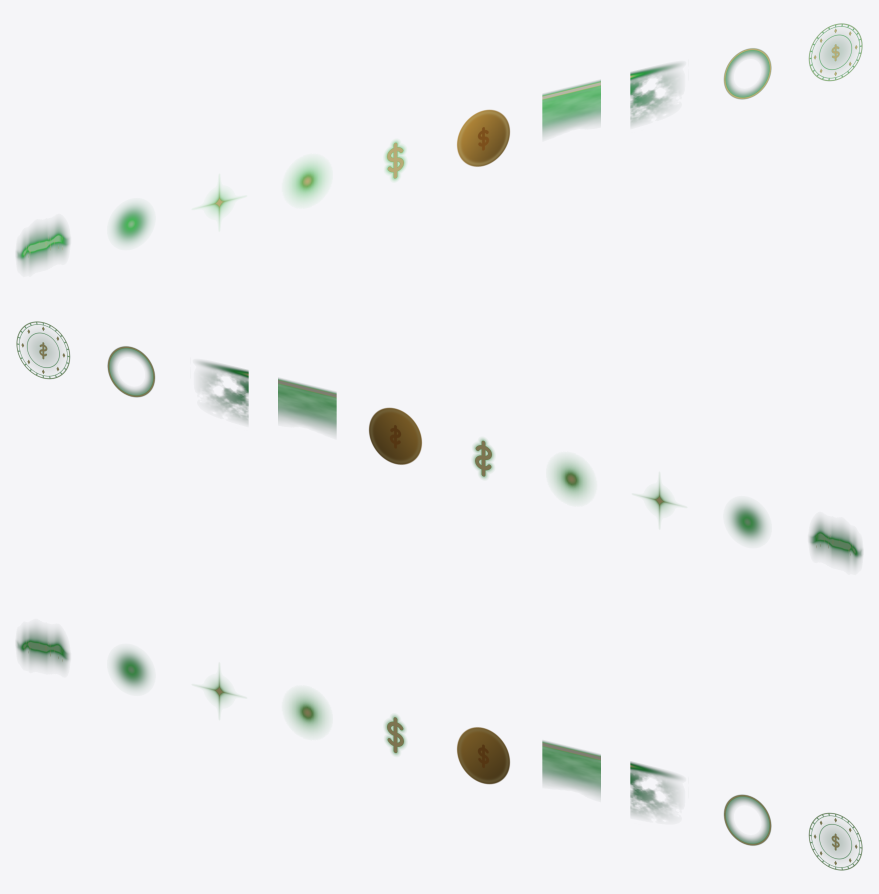
File: MoneyStaffVFX.glb
3 views of the same model, one above another, from view 1: azimuth 30°, elevation 25°; view 2: azimuth 150°, elevation 25°; view 3: azimuth 330°, elevation 25° (orthographic).
Parts seen in each view (by area): view 1: Tex_SlashBand, Tex_Coin, Tex_Wisp, Tex_Trail, Tex_GroundCircle, Tex_Mote, Tex_Glow, Tex_ShockRing, Tex_Dollar; view 2: Tex_SlashBand, Tex_Coin, Tex_Wisp, Tex_Trail, Tex_GroundCircle, Tex_Mote, Tex_Glow, Tex_ShockRing, Tex_Dollar; view 3: Tex_SlashBand, Tex_Coin, Tex_Wisp, Tex_Trail, Tex_GroundCircle, Tex_Mote, Tex_Glow, Tex_ShockRing, Tex_Dollar.
Part boxes in pixels (x1=…): Tex_SlashBand: x1=542, y1=80, x2=600, y2=134; Tex_Coin: x1=457, y1=109, x2=509, y2=166; Tex_Wisp: x1=16, y1=222, x2=69, y2=267; Tex_Trail: x1=630, y1=64, x2=679, y2=123; Tex_GroundCircle: x1=809, y1=23, x2=862, y2=80; Tex_Mote: x1=289, y1=161, x2=325, y2=200; Tex_Glow: x1=113, y1=205, x2=149, y2=243; Tex_ShockRing: x1=724, y1=48, x2=771, y2=99; Tex_Dollar: x1=385, y1=140, x2=405, y2=180; Tex_SlashBand: x1=278, y1=378, x2=336, y2=432; Tex_Coin: x1=369, y1=407, x2=421, y2=464; Tex_Wisp: x1=809, y1=520, x2=862, y2=565; Tex_Trail: x1=199, y1=362, x2=248, y2=421; Tex_GroundCircle: x1=16, y1=321, x2=69, y2=378; Tex_Mote: x1=553, y1=459, x2=589, y2=498; Tex_Glow: x1=729, y1=503, x2=765, y2=541; Tex_ShockRing: x1=107, y1=346, x2=154, y2=397; Tex_Dollar: x1=473, y1=438, x2=493, y2=478; Tex_SlashBand: x1=542, y1=741, x2=600, y2=795; Tex_Coin: x1=457, y1=727, x2=509, y2=784; Tex_Wisp: x1=16, y1=628, x2=69, y2=667; Tex_Trail: x1=630, y1=762, x2=679, y2=814; Tex_GroundCircle: x1=809, y1=813, x2=862, y2=870; Tex_Mote: x1=289, y1=693, x2=325, y2=732; Tex_Glow: x1=113, y1=650, x2=149, y2=688; Tex_ShockRing: x1=724, y1=794, x2=771, y2=845; Tex_Dollar: x1=385, y1=715, x2=405, y2=754.
Bounding box in the file's own units: 2.9 × 0.2 × 0.
Materials: 10 (10 with a texture image).
